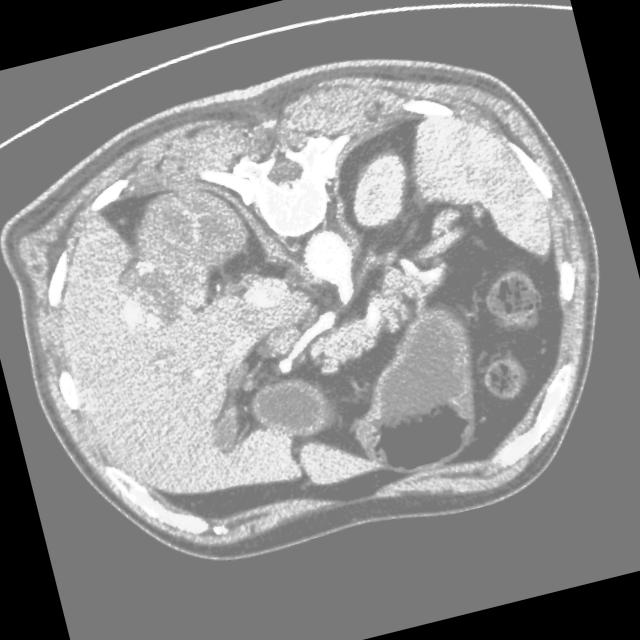TUMOR: (164, 125, 509, 406)
